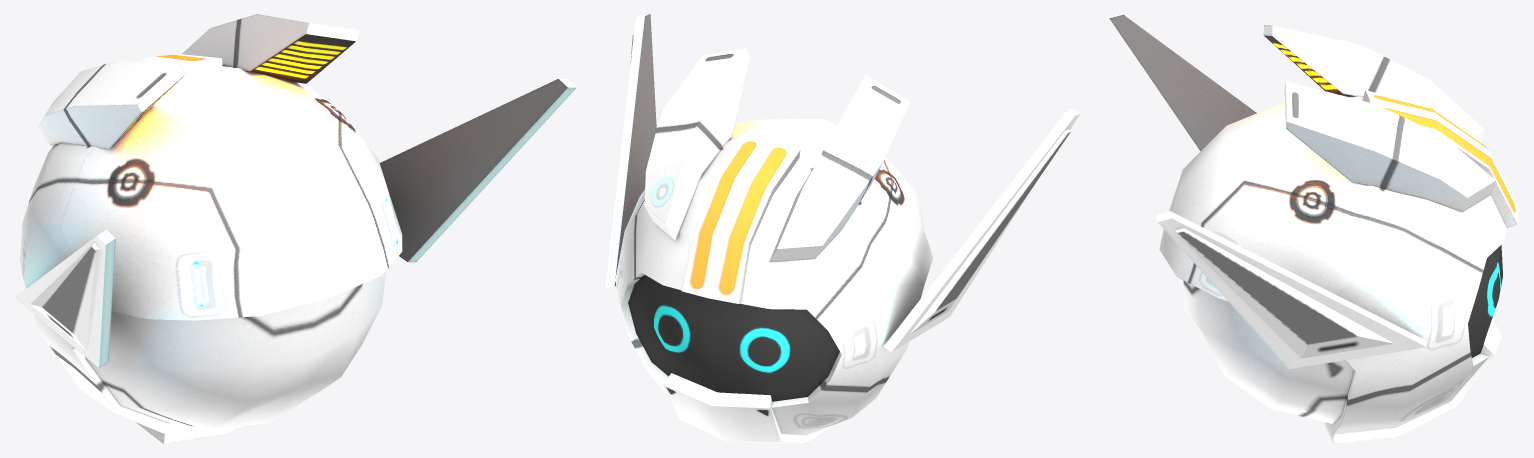
The model's file is rewardL6.glb.
3 renders of one model, left to right at view 1: azimuth 30°, elevation 25°; view 2: azimuth 150°, elevation 25°; view 3: azimuth 270°, elevation 25°, orthographic. The views are drawn at different scales.
Parts seen in each view (by area): view 1: Dhingia Build; view 2: Dhingia Build; view 3: Dhingia Build.
Boxes of the visible parts, x1,y1,x2,y2 form: Dhingia Build: (14, 14, 576, 443); Dhingia Build: (605, 14, 1079, 443); Dhingia Build: (1109, 14, 1519, 443).
Size of what is drawn, in the model's own units: 1.11 by 0.8774 by 0.8764.
Materials: 1 (1 with a texture image).
